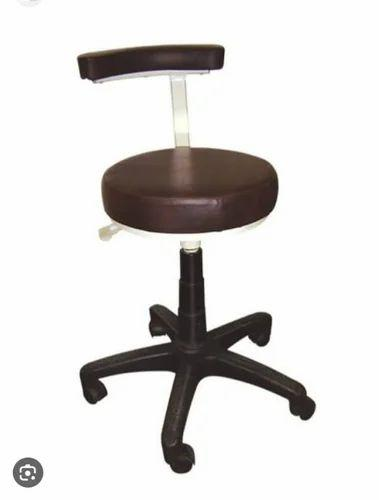chair: (76, 43, 316, 473)
